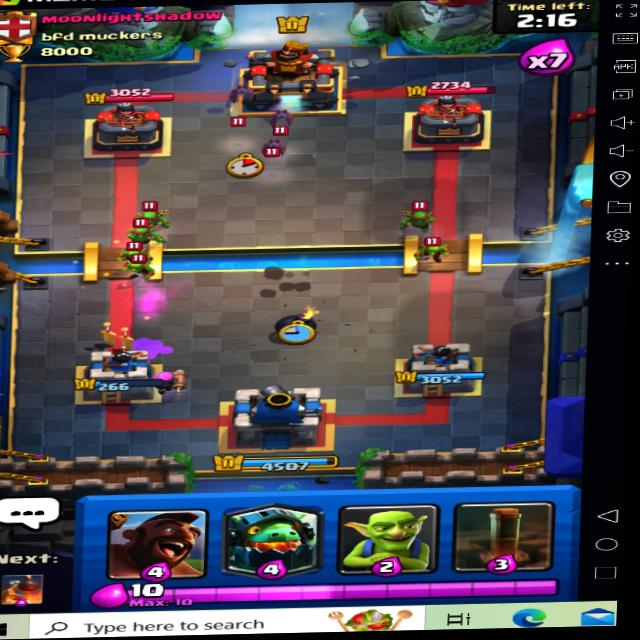bats: (260, 135, 292, 162), (264, 107, 303, 125), (224, 81, 257, 100)
goblin: (413, 232, 452, 266), (124, 252, 161, 282), (115, 237, 147, 266)
golden-knight: (102, 308, 192, 356)
spear-goblin: (397, 203, 439, 235), (136, 200, 171, 230), (125, 220, 159, 245)
